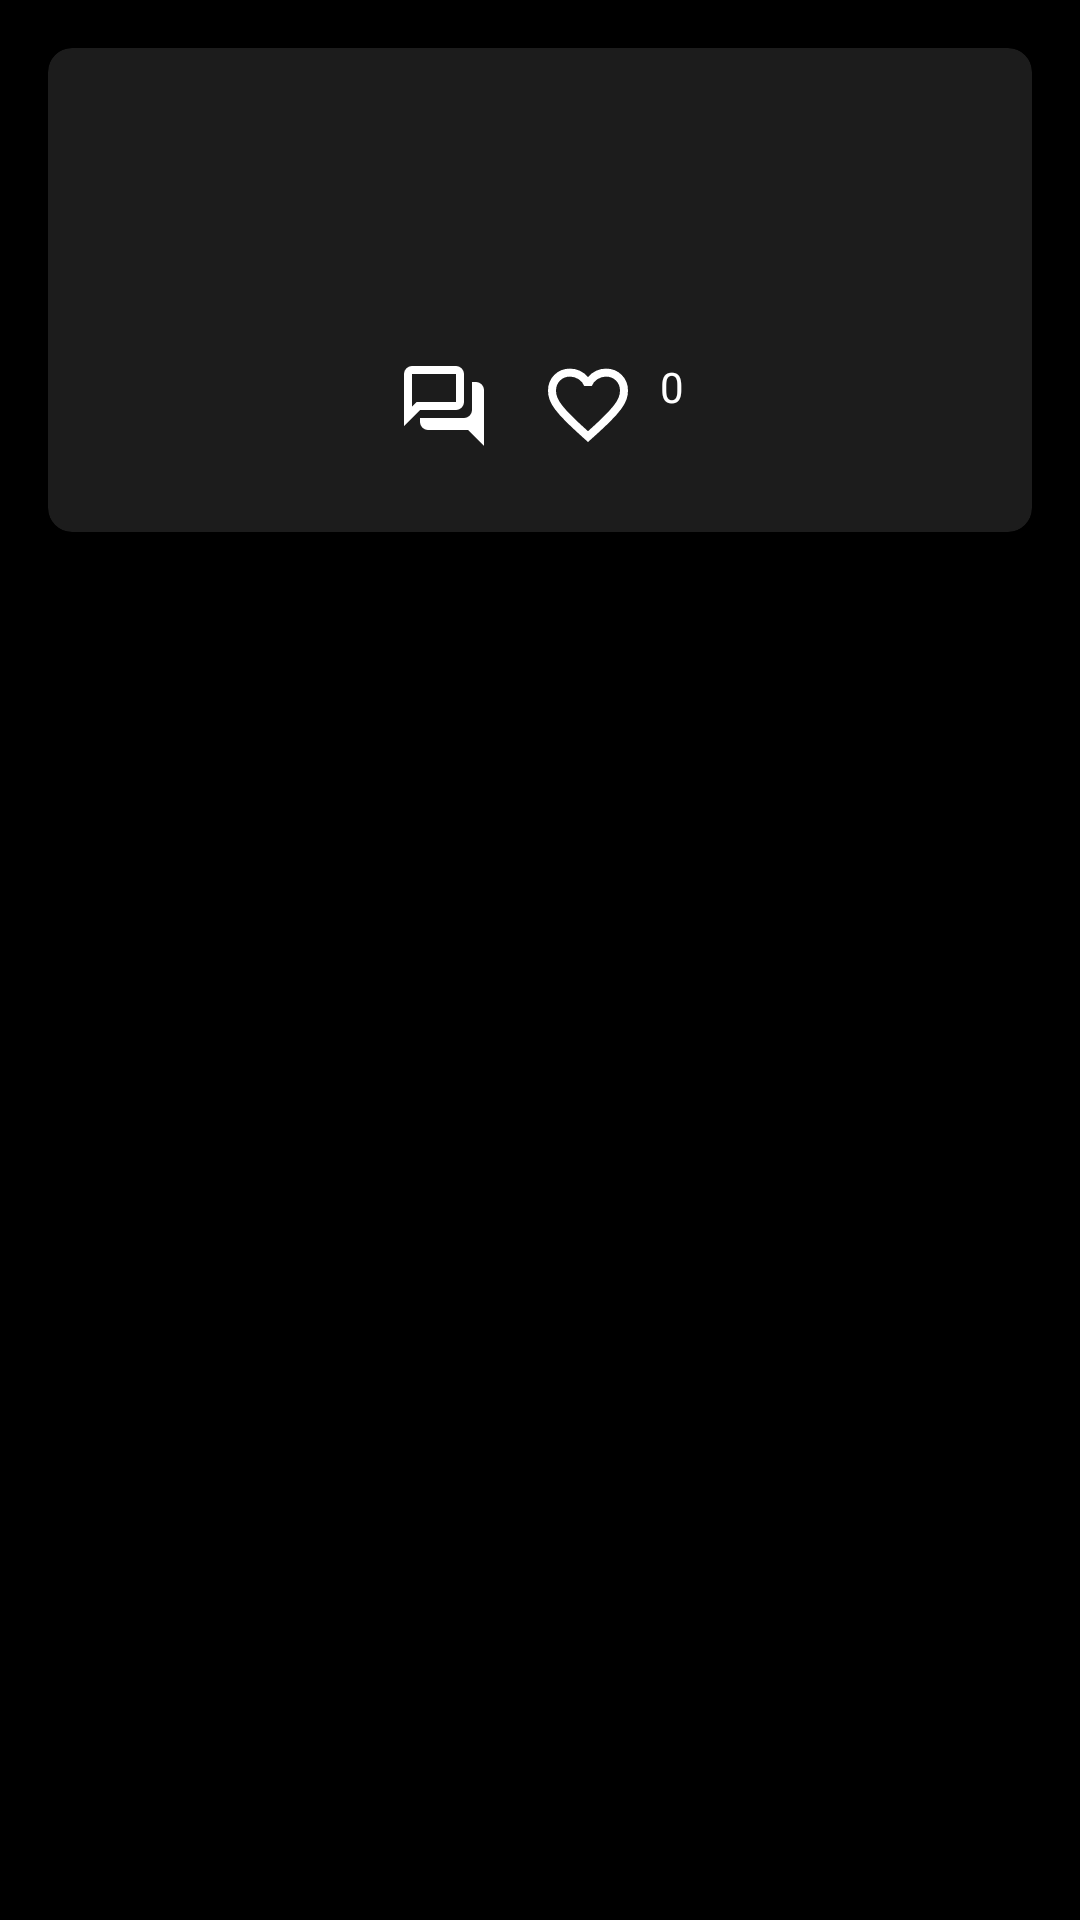

Where to tap for icons on this 1080 × 1920 app screen, as (x=x, y=y):
Comentar: (x=444, y=406)
Dar like: (x=588, y=405)
